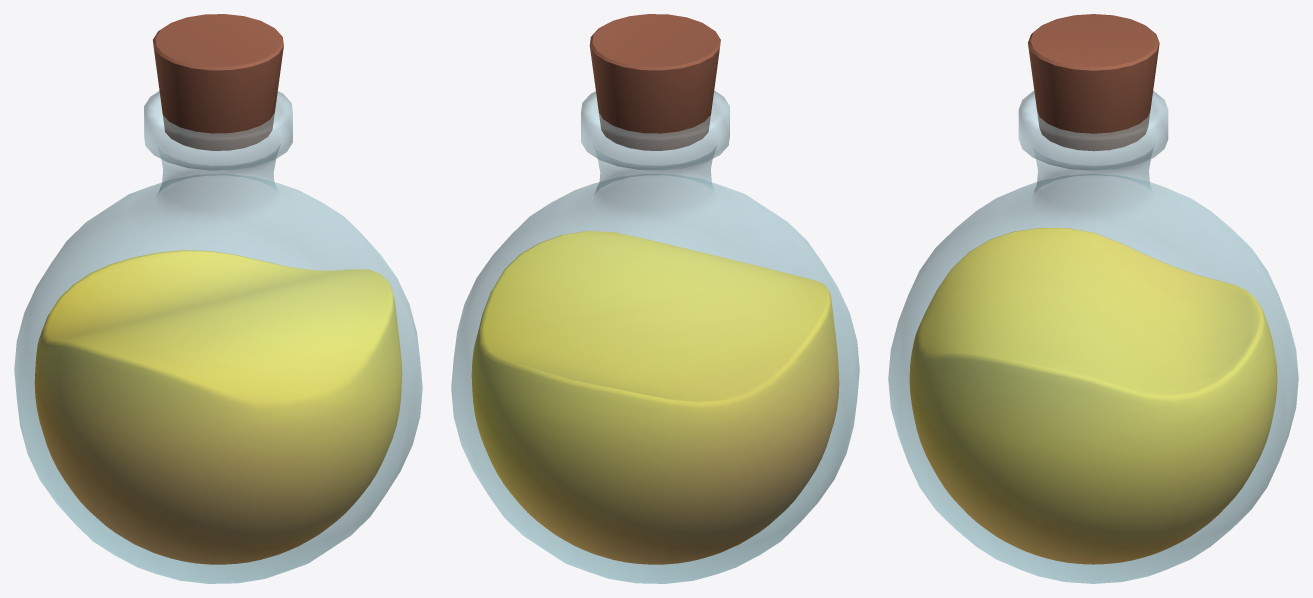
Rendered from PocionSinReceta.fbx.
3 renders of one model, left to right at view 1: azimuth 30°, elevation 25°; view 2: azimuth 150°, elevation 25°; view 3: azimuth 270°, elevation 25°, orthographic.
Parts seen in each view (by area): view 1: Botella, Liquido, Corcho; view 2: Botella, Liquido, Corcho; view 3: Botella, Liquido, Corcho.
Part boxes in pixels (bbox=[...]): Botella: bbox=[14, 91, 422, 583]; Liquido: bbox=[34, 250, 402, 564]; Corcho: bbox=[153, 14, 283, 150]; Botella: bbox=[451, 91, 859, 583]; Liquido: bbox=[471, 231, 839, 564]; Corcho: bbox=[589, 14, 720, 150]; Botella: bbox=[888, 91, 1298, 583]; Liquido: bbox=[909, 228, 1277, 564]; Corcho: bbox=[1028, 14, 1159, 151].
Bounding box in the file's own units: 0.803 × 1.13 × 0.803.
